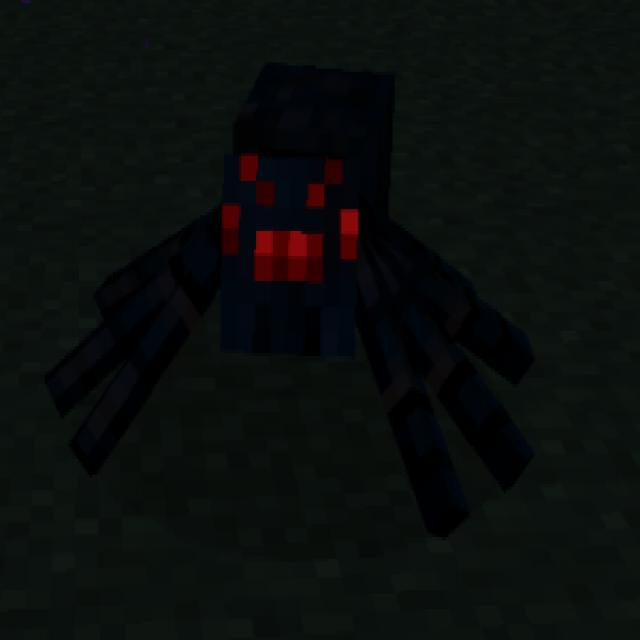Cave Spider: (41, 63, 536, 540)
